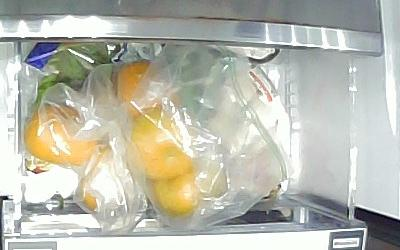persimmon_vinyl: (24, 101, 96, 167), (130, 109, 196, 180), (112, 59, 179, 114), (79, 143, 114, 213), (149, 168, 199, 216)
